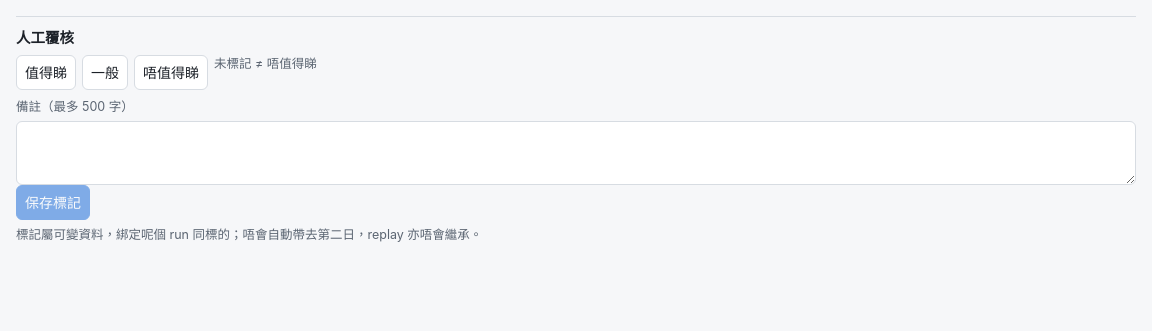
Test: ReviewPanel › preserves edits made while a conflicting PUT is still in flight
Expected: the element showing "值得睇 一般 唔值得睇 未標記 ≠ 唔值得睇" is shown, [16, 55, 317, 90]
Type "保留輸入" into the text box labelled "備註（最多 500 字）".
click(576, 152); type("保留輸入")  # box [16, 120, 1136, 184]
Click the button "值得睇".
click(46, 72)  # box [16, 55, 76, 90]
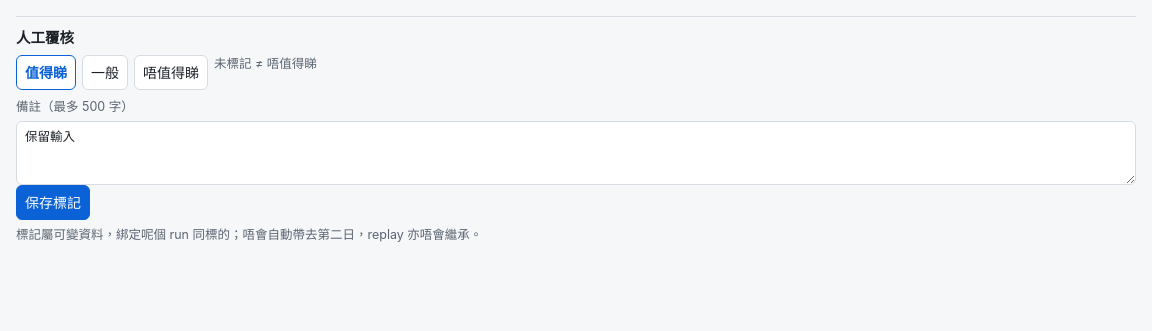
Click the button "保存標記".
click(53, 202)  # box [16, 184, 90, 220]
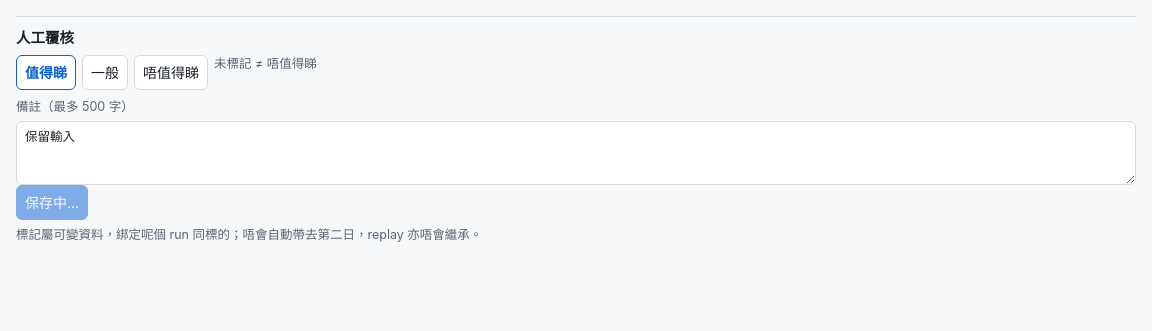
Replace the text in the text box labelled "備註（最多 500 字）" with "newer draft" at (576, 152), box [16, 120, 1136, 184]
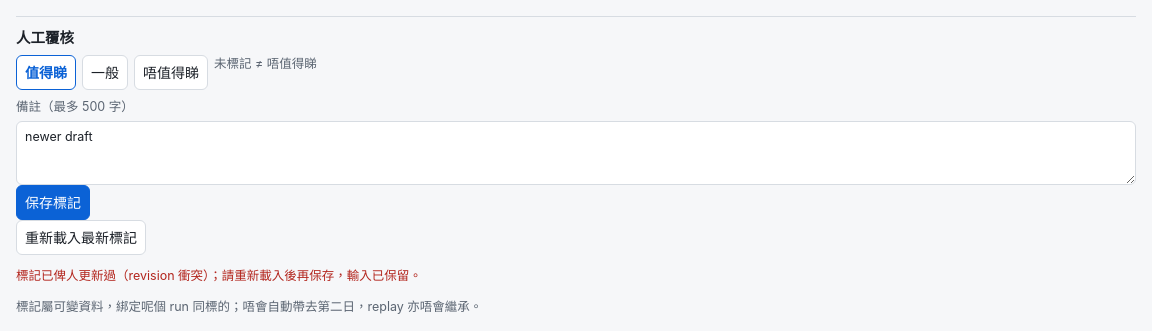
Expected: the text "標記已俾人更新過（revision 衝突）；請重新載入後再保存，輸入已保留。" is shown, [16, 268, 422, 283]
Click the button "重新載入最新標記".
click(81, 237)  # box [16, 220, 146, 254]
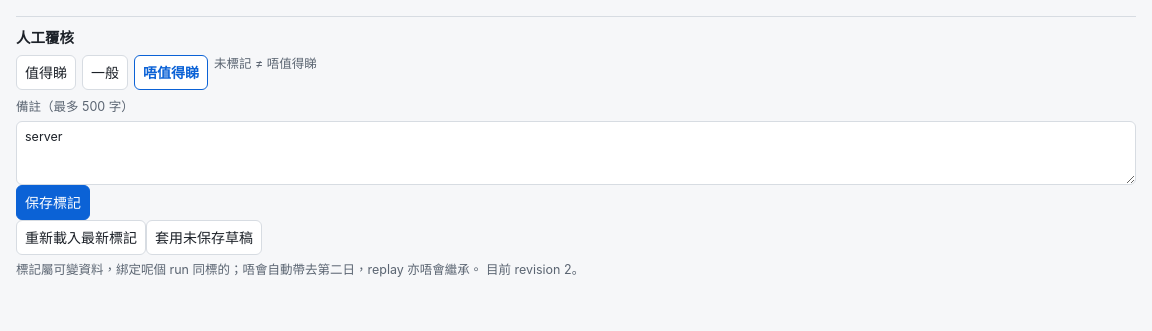
Expected: the text box showing "server" is shown, [16, 120, 1136, 184]
Click the button "套用未保存草稿".
click(204, 237)  # box [146, 220, 262, 254]
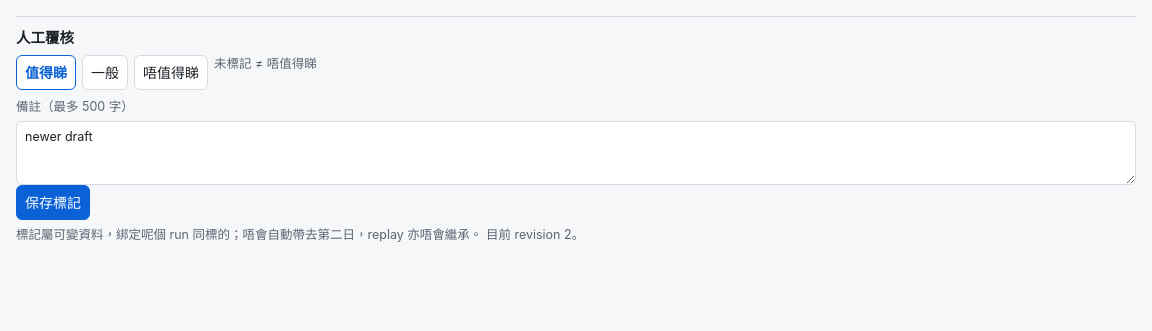
Click the button "保存標記".
click(53, 202)  # box [16, 184, 90, 220]
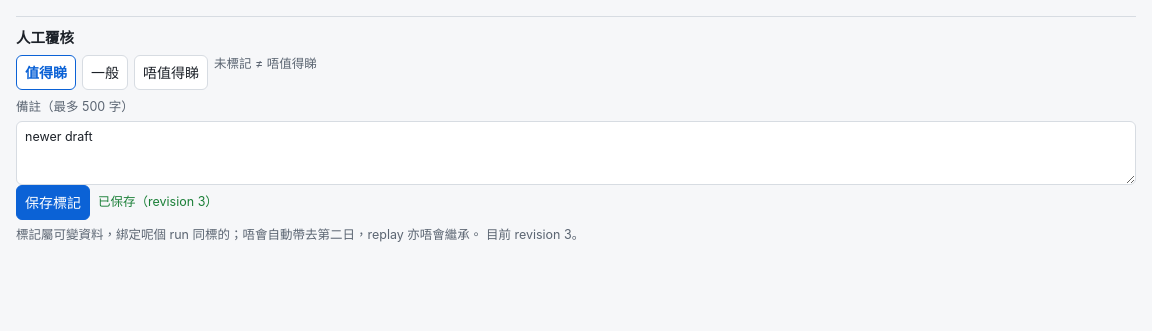
Expected: the text "已保存（revision 3）" is shown, [98, 193, 218, 211]
